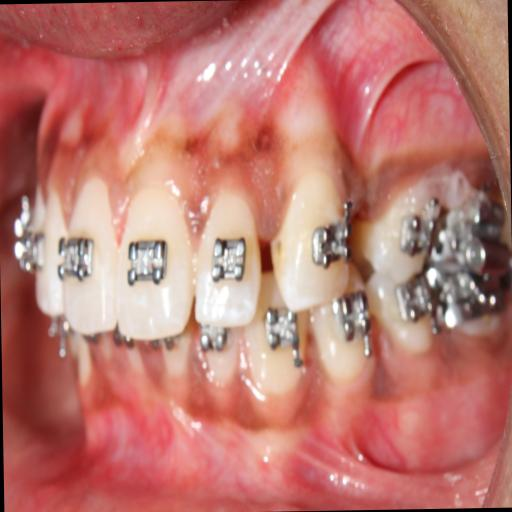correct_brace: (306, 200, 352, 276), (54, 223, 99, 295), (126, 233, 172, 300), (209, 229, 250, 289)
incorrect_brace: (192, 182, 264, 328)
